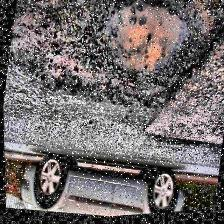pothole: (2, 0, 206, 118)
